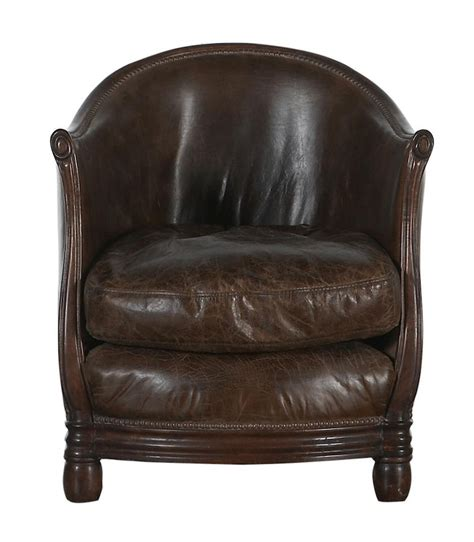cuero: (56, 47, 413, 434)
